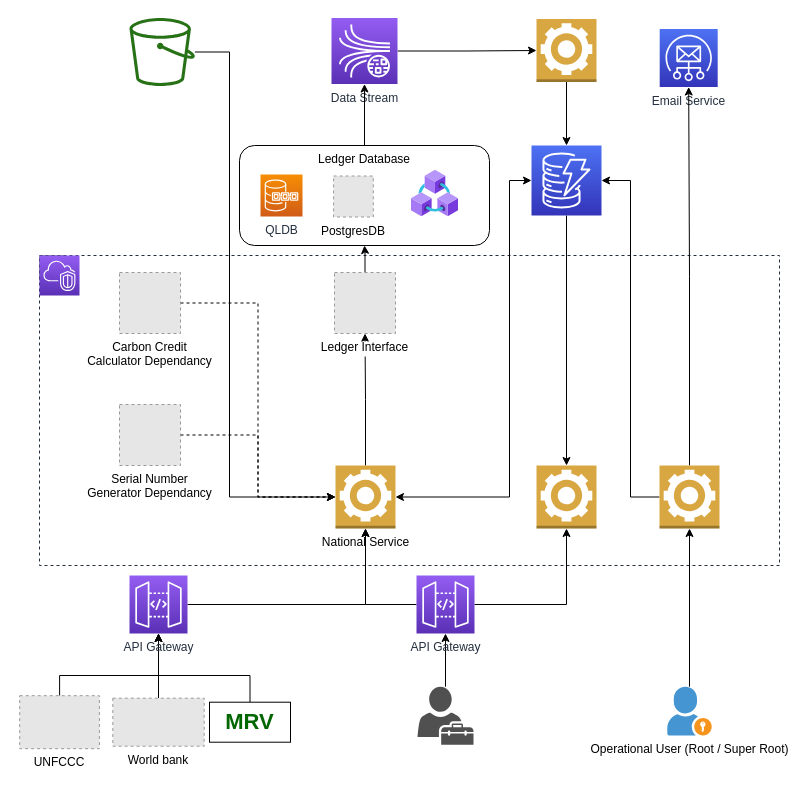
Some shapes in this 806 by 787 pixel diagram are drawn without their labels. Grey dashed boxes stand in for pictures. Each missing label, with the centre of its shape:
Analytics Service: (566,496)
Any Blockchain: (434,193)
Data Replicator Service: (566,50)
Government / Programme Developer / Certifier: (445,715)
Operational / Query Database: (566,180)
Operational Service: (689,496)
Private Network: (59,275)
Storage: (161,52)
